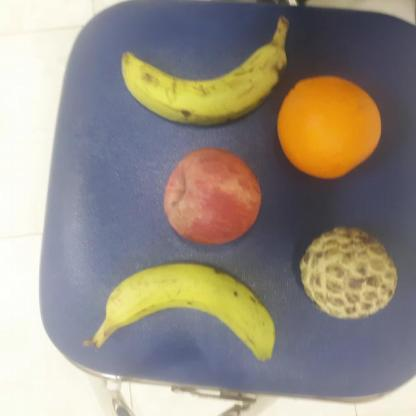annona: (295, 226, 399, 322)
apple: (158, 147, 264, 248)
banana: (86, 261, 277, 366), (119, 40, 288, 129)
orange: (274, 74, 382, 182)
